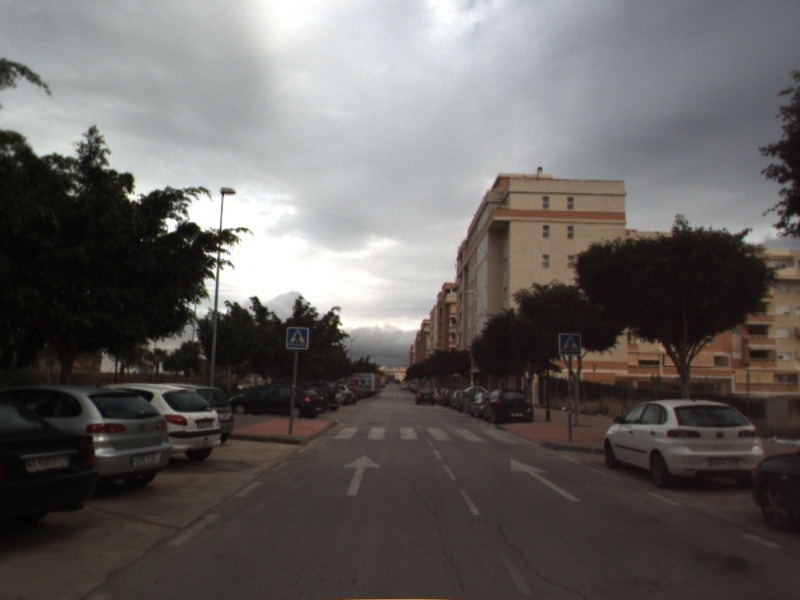STRAIGHT: (508, 457, 582, 503), (340, 453, 383, 497)
